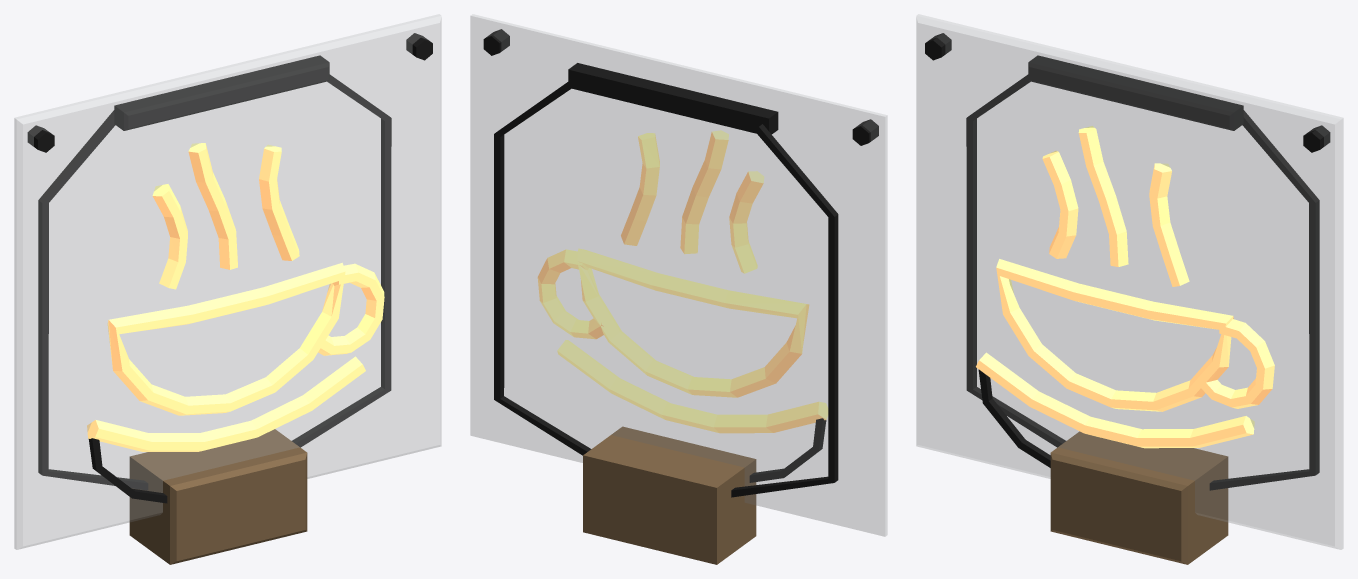
File: neon_window.glb
3 renders of one model, left to right at view 1: azimuth 30°, elevation 25°; view 2: azimuth 150°, elevation 25°; view 3: azimuth 330°, elevation 25°, orthographic. The views are drawn at different scales.
Visible parts, largest first — view 1: neon-window-sign; view 2: neon-window-sign; view 3: neon-window-sign.
Boxes of the visible parts, x1,y1,x2,y2 form: neon-window-sign: (14,14,441,564); neon-window-sign: (470,14,887,564); neon-window-sign: (916,14,1343,564).
Size of the model in its own units: 0.62 by 0.66 by 0.108.
